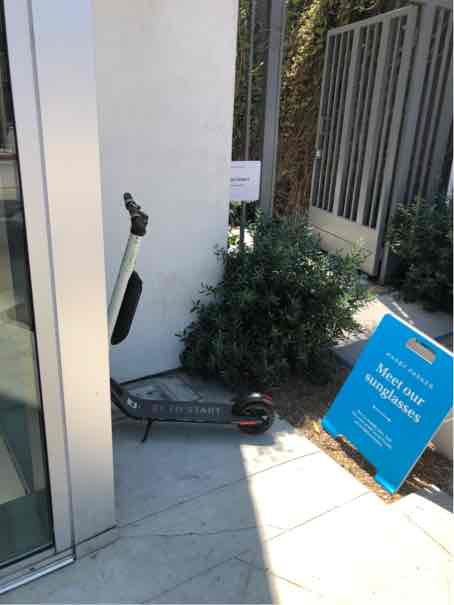scooter: (85, 172, 290, 446)
